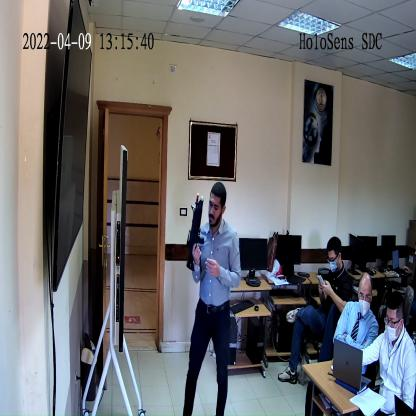handgun: (183, 200, 205, 272)
